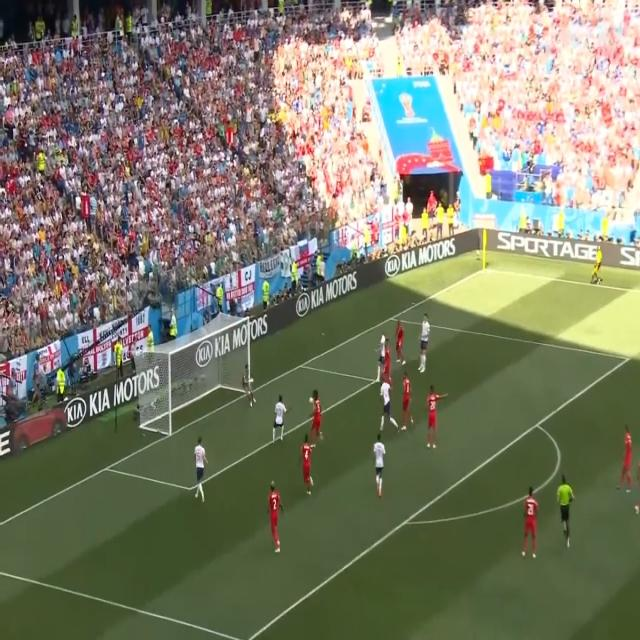ball: (308, 391, 314, 407)
player: (424, 386, 448, 449), (521, 485, 540, 563), (266, 475, 284, 556), (192, 434, 208, 505), (619, 421, 634, 494), (378, 382, 398, 435), (300, 432, 316, 496), (372, 436, 386, 501), (402, 372, 415, 435), (418, 312, 431, 374), (273, 391, 287, 445), (395, 320, 407, 369), (384, 344, 395, 385), (376, 334, 384, 381), (314, 394, 321, 446)
